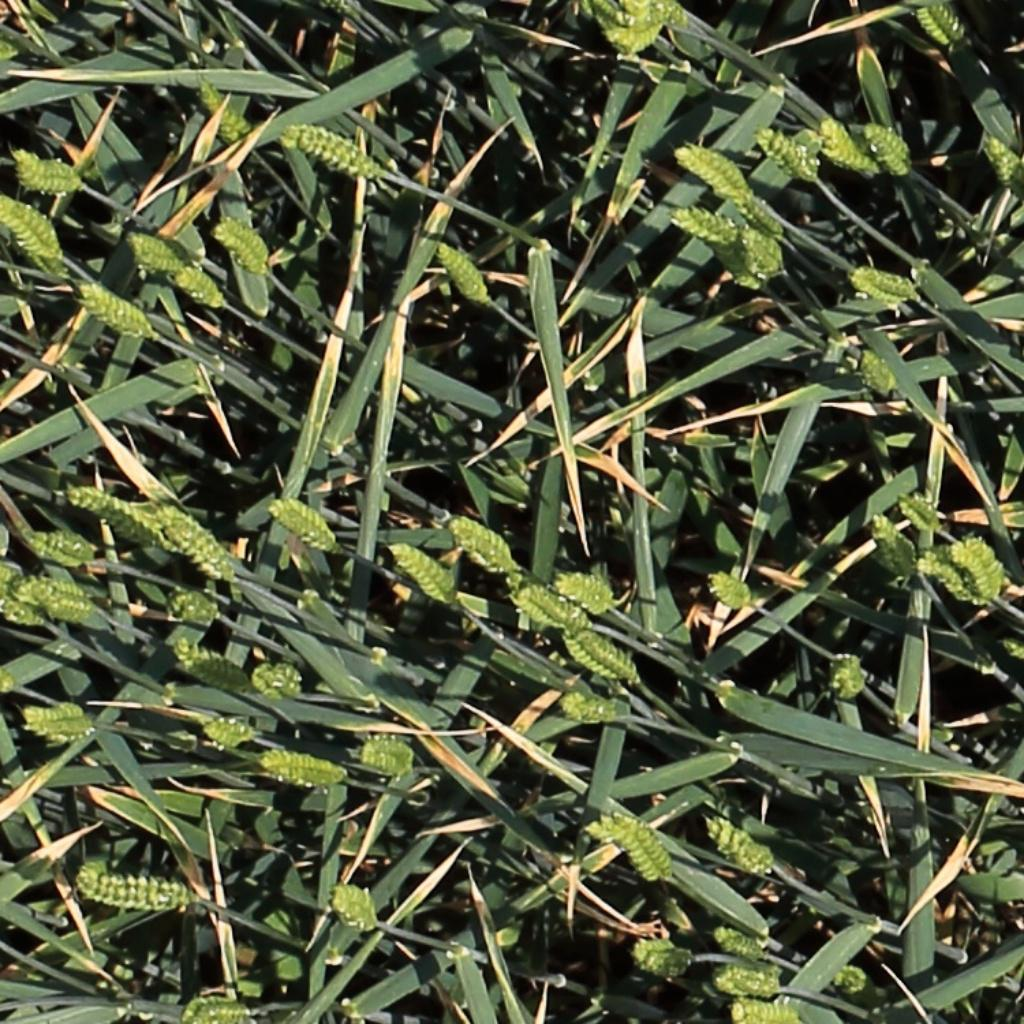0-0: (644, 208, 752, 289), (574, 0, 688, 56), (502, 567, 597, 633), (157, 503, 234, 580), (596, 817, 678, 884), (66, 486, 161, 539), (286, 122, 379, 176), (0, 568, 101, 616), (435, 234, 496, 309), (390, 540, 458, 604), (704, 819, 778, 876), (23, 703, 106, 753), (79, 282, 154, 337), (0, 191, 61, 258), (755, 120, 821, 181), (193, 70, 251, 139), (677, 140, 749, 195), (815, 113, 882, 172), (75, 876, 193, 909), (267, 498, 339, 552), (869, 507, 920, 582), (566, 632, 634, 684), (257, 746, 345, 786), (921, 552, 985, 607), (957, 533, 1004, 606), (450, 518, 517, 567), (174, 647, 249, 689), (212, 217, 270, 271), (864, 117, 916, 174), (980, 126, 1024, 193), (737, 189, 792, 242), (10, 150, 83, 188), (857, 341, 903, 400), (736, 231, 785, 285), (182, 989, 256, 1024), (360, 733, 417, 775), (173, 266, 228, 307), (330, 886, 379, 932), (129, 232, 188, 270), (851, 267, 921, 299), (28, 531, 96, 563), (920, 2, 965, 49), (715, 928, 775, 963), (636, 944, 694, 980), (557, 576, 615, 611), (832, 958, 879, 999), (198, 718, 257, 750), (835, 648, 866, 707), (899, 491, 943, 532), (255, 660, 303, 696), (709, 572, 756, 608), (718, 972, 783, 995), (8, 595, 49, 631), (561, 699, 625, 722), (169, 592, 219, 621), (735, 1002, 802, 1022), (0, 658, 17, 692), (0, 45, 16, 61)
